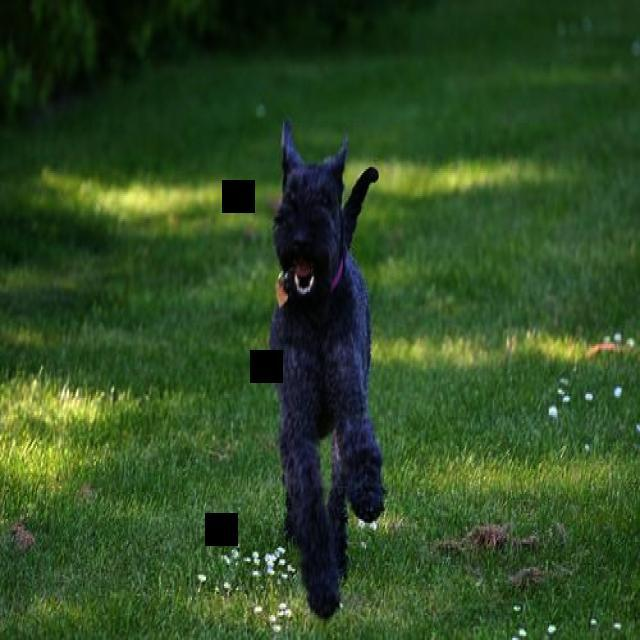adult_dog: (265, 118, 391, 621)
